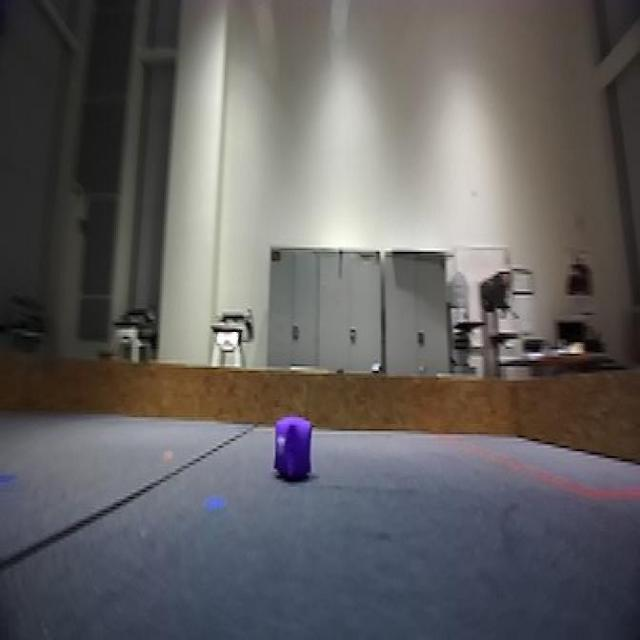frc_cube: (274, 419, 314, 487)
